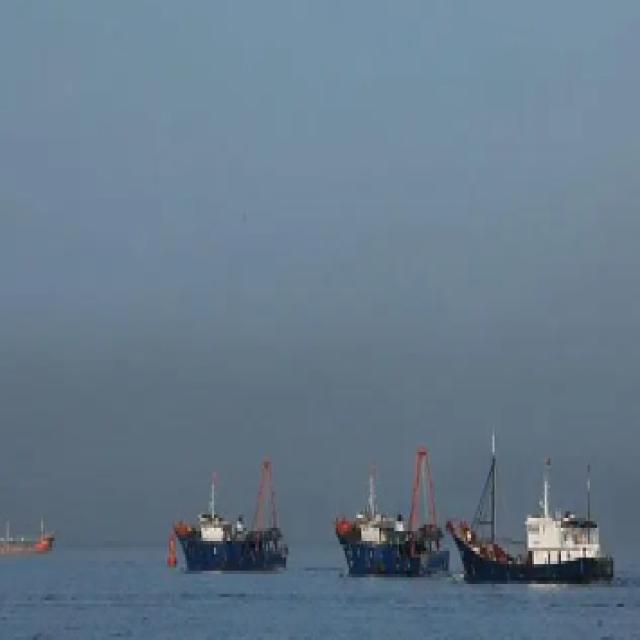cargoship: (443, 426, 601, 583), (333, 441, 456, 574), (171, 457, 291, 576), (0, 498, 54, 558)
